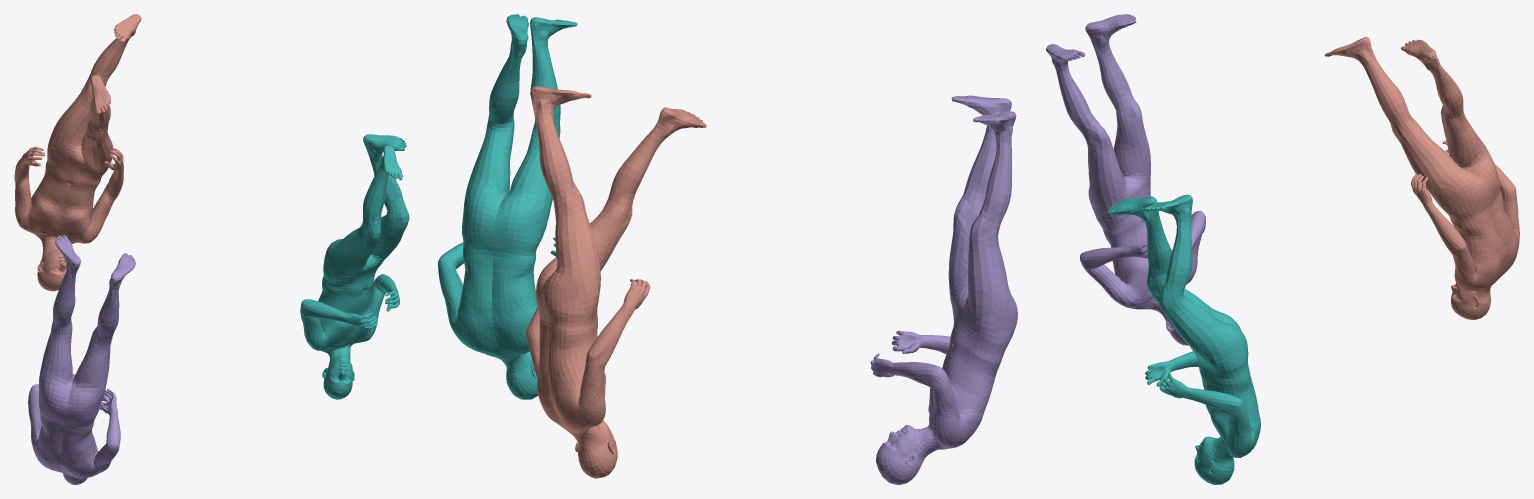
The model's file is all_people_native_world.glb.
3 views of the same model, side by side, from view 1: azimuth 30°, elevation 25°; view 2: azimuth 150°, elevation 25°; view 3: azimuth 270°, elevation 25° (orthographic). The views are drawn at different scales.
Parts seen in each view (by area): view 1: persistent_id_0_slot_2, persistent_id_2_slot_0, persistent_id_1_slot_1; view 2: persistent_id_0_slot_2, persistent_id_1_slot_1, persistent_id_2_slot_0; view 3: persistent_id_0_slot_2, persistent_id_1_slot_1, persistent_id_2_slot_0.
Boxes of the visible parts, <box> form: persistent_id_0_slot_2: <box>14,14,141,291</box>; persistent_id_2_slot_0: <box>28,235,135,484</box>; persistent_id_1_slot_1: <box>300,134,409,399</box>; persistent_id_0_slot_2: <box>526,86,706,478</box>; persistent_id_1_slot_1: <box>438,14,577,399</box>; persistent_id_2_slot_0: <box>870,95,1017,484</box>; persistent_id_0_slot_2: <box>1324,37,1519,319</box>; persistent_id_1_slot_1: <box>1107,194,1260,484</box>; persistent_id_2_slot_0: <box>1046,14,1205,345</box>.
Size of the model in its own units: 2.57 by 2.16 by 2.4.
